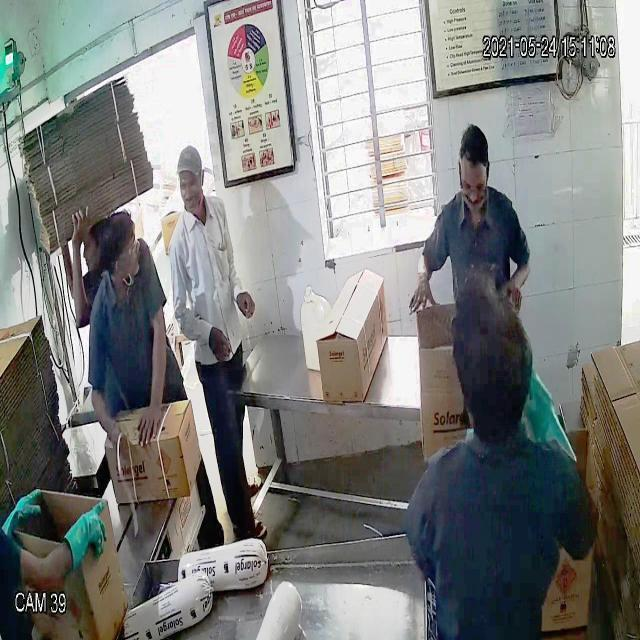No_Goggles: (180, 178, 198, 194)
No_Helmet: (457, 123, 491, 169)
